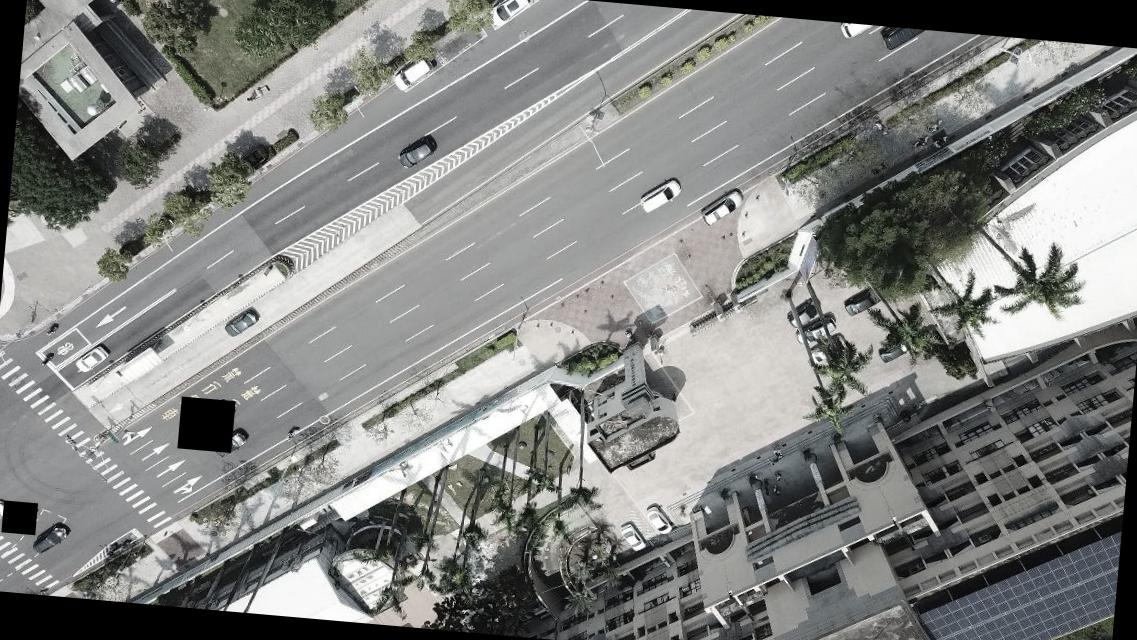vehicle: (638, 175, 682, 217), (486, 0, 545, 31), (392, 54, 434, 95), (700, 190, 744, 228), (792, 311, 836, 348), (842, 286, 887, 320), (395, 136, 434, 172), (30, 521, 70, 555), (877, 334, 917, 368), (880, 26, 929, 52), (212, 426, 248, 461), (222, 307, 260, 339), (810, 336, 848, 368), (785, 295, 820, 329), (74, 343, 109, 374), (643, 504, 674, 536), (617, 524, 646, 552), (839, 22, 871, 44), (0, 497, 10, 536)
